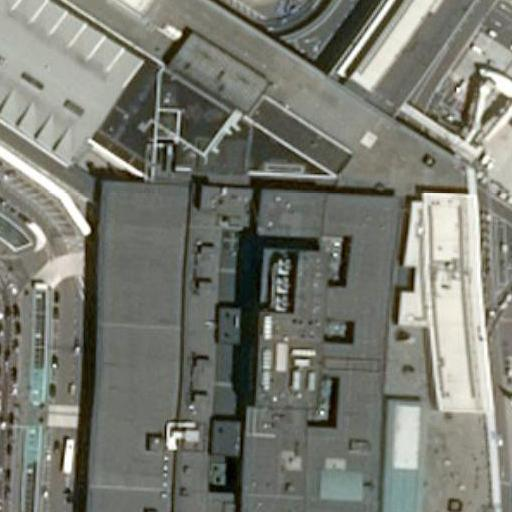Aircraft: (473, 57, 512, 194), (497, 331, 512, 512)
